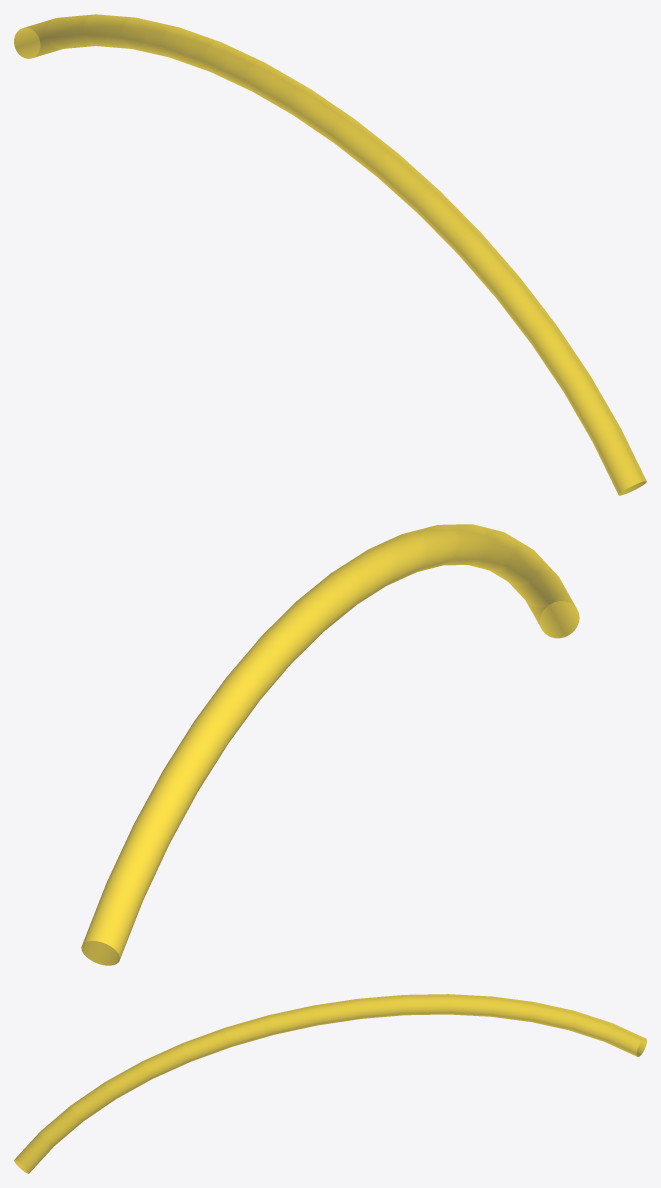
The model's file is Event_402970704_track_28.fbx.
3 renders of one model, top to bottom at view 1: azimuth 30°, elevation 25°; view 2: azimuth 150°, elevation 25°; view 3: azimuth 270°, elevation 25°, orthographic. The views are drawn at different scales.
Parts seen in each view (by area): view 1: Model; view 2: Model; view 3: Model.
Boxes of the visible parts, x1,y1,x2,y2 form: Model: [14, 14, 646, 495]; Model: [81, 524, 579, 965]; Model: [14, 994, 646, 1173].
Size of the model in its own units: 0.2215 by 0.3302 by 1.24.
